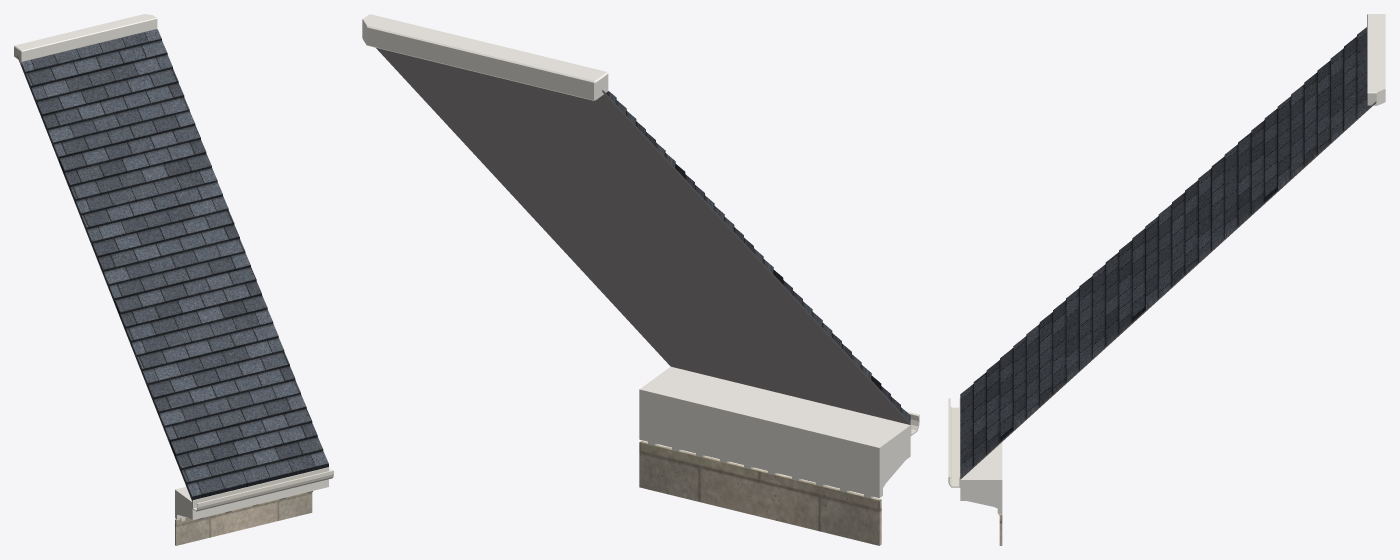
The model's file is roof_r5.glb.
The picture shows the model from 3 angles, left to right: view 1: azimuth 30°, elevation 25°; view 2: azimuth 150°, elevation 25°; view 3: azimuth 270°, elevation 25°; orthographic projection. The views are drawn at different scales.
Parts seen in each view (by area): view 1: roof_r5_shingles, roof_r5_trim, roof_r5_stone_t, roof_r5_gutter, roof_r5_dark; view 2: roof_r5_dark, roof_r5_trim, roof_r5_stone_t, roof_r5_shingles; view 3: roof_r5_shingles, roof_r5_trim, roof_r5_gutter, roof_r5_dark.
Part boxes in pixels (box(x1,y1,x2,y2)): roof_r5_shingles: box(21, 29, 328, 500); roof_r5_trim: box(14, 14, 328, 521); roof_r5_stone_t: box(175, 492, 312, 545); roof_r5_gutter: box(192, 467, 333, 511); roof_r5_dark: box(17, 55, 192, 501); roof_r5_dark: box(376, 48, 910, 424); roof_r5_trim: box(362, 14, 910, 498); roof_r5_stone_t: box(639, 440, 881, 545); roof_r5_shingles: box(606, 91, 910, 421); roof_r5_shingles: box(960, 27, 1366, 477); roof_r5_trim: box(960, 14, 1385, 515); roof_r5_gutter: box(948, 398, 960, 487); roof_r5_dark: box(960, 101, 1376, 479).
Bounding box in the file's own units: 2 × 5.35 × 4.68.
Materials: 5 (2 with a texture image).
